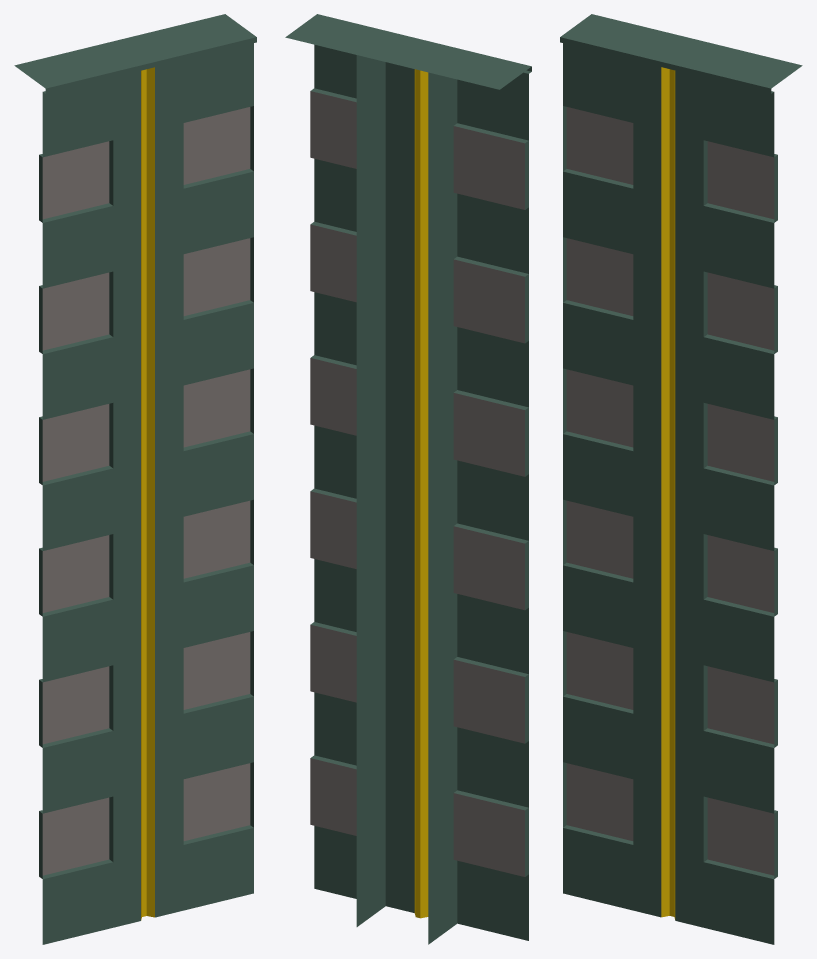
3 views of the same model, side by side, from view 1: azimuth 30°, elevation 25°; view 2: azimuth 150°, elevation 25°; view 3: azimuth 330°, elevation 25° (orthographic).
Visible parts, largest first — view 1: Column.055; view 2: Column.055; view 3: Column.055.
Boxes of the visible parts, bbox=[...] form: Column.055: bbox=[14, 14, 256, 944]; Column.055: bbox=[285, 14, 531, 944]; Column.055: bbox=[560, 14, 802, 944].
Size of the model in its own units: 835 by 3245 by 217.
